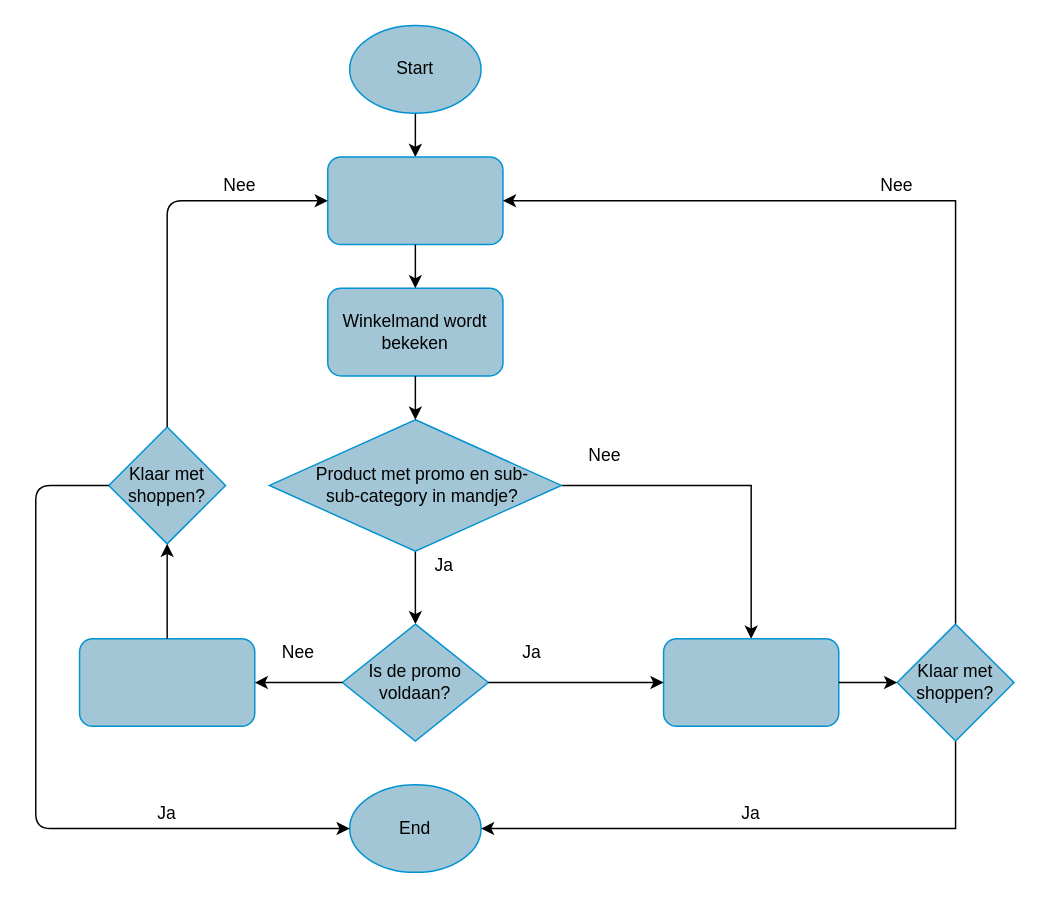
Some shapes in this 1040 by 898 pixel diagram are drawn without their labels. Here are the shapes that lost their labels. From the top down, the centre of each, then its label:
At (x=414, y=200): "Artikel toegevoegd aan winkelmand".
At (x=166, y=681): "Laat vier producten zien met zelfde combinatie".
At (x=750, y=681): "Laat vier producten zien met standaard promo".
